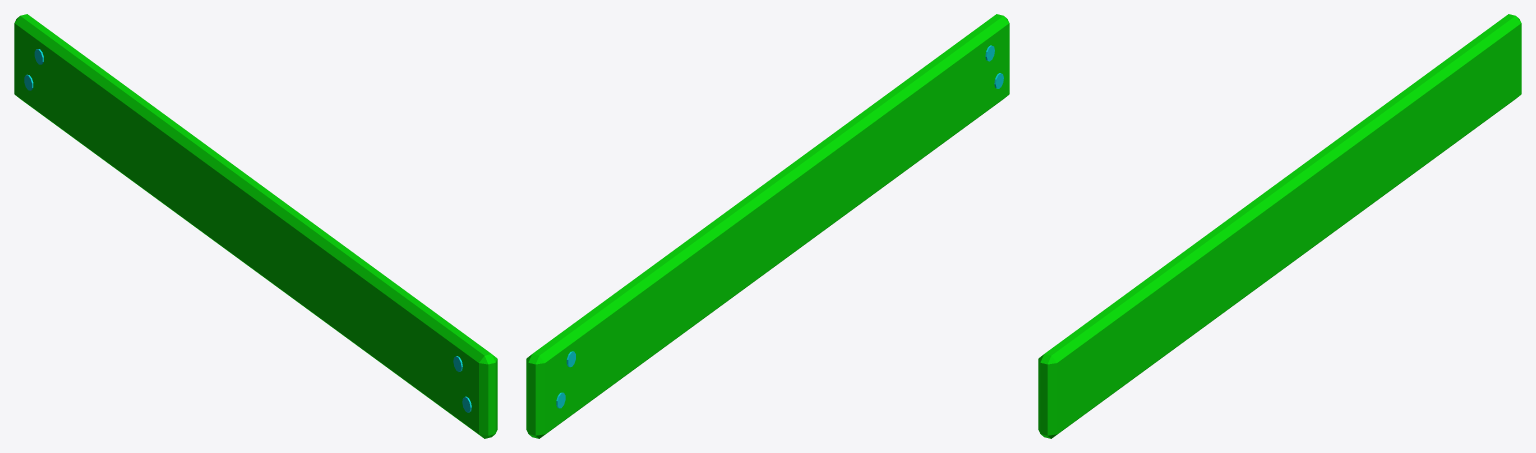
File: plank.fbx
3 renders of one model, left to right at view 1: azimuth 30°, elevation 25°; view 2: azimuth 150°, elevation 25°; view 3: azimuth 330°, elevation 25°, orthographic.
Visible parts, largest first — view 1: plank; view 2: plank; view 3: plank.
Part boxes in pixels (x1=…): plank: x1=14, y1=14, x2=497, y2=438; plank: x1=526, y1=14, x2=1009, y2=438; plank: x1=1038, y1=14, x2=1521, y2=438.
Bounding box in the file's own units: 0.2341 × 0.9285 × 9.54.
